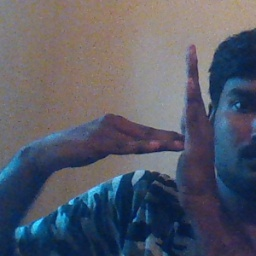Z: (117, 40, 221, 207)
